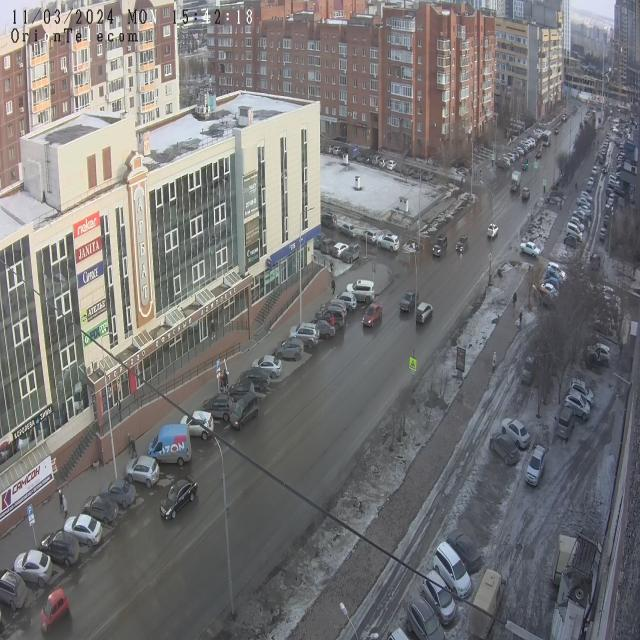car: (468, 570, 508, 640), (433, 538, 472, 604), (147, 421, 192, 471), (405, 589, 448, 640), (160, 468, 198, 525), (420, 569, 456, 629), (40, 526, 80, 572), (12, 546, 54, 589), (448, 526, 481, 576), (39, 586, 70, 638), (64, 512, 104, 551), (83, 490, 119, 531), (124, 452, 160, 493), (230, 387, 260, 435), (0, 566, 28, 614), (178, 408, 214, 444), (100, 478, 137, 511), (202, 390, 232, 430), (488, 428, 518, 467), (501, 413, 530, 452), (238, 364, 270, 398), (525, 440, 547, 489), (252, 352, 283, 385), (288, 319, 318, 353), (226, 376, 254, 412), (319, 296, 347, 332), (570, 373, 595, 411), (564, 387, 591, 422), (274, 338, 304, 368), (314, 306, 344, 336), (304, 316, 336, 342), (345, 279, 375, 306), (556, 403, 576, 442), (585, 342, 612, 369), (362, 302, 383, 336), (398, 285, 418, 319), (520, 354, 538, 388), (332, 290, 358, 312), (342, 241, 362, 269), (415, 300, 434, 329), (539, 277, 559, 304), (432, 230, 448, 262), (337, 218, 359, 241), (378, 232, 400, 254), (320, 234, 340, 258), (320, 207, 338, 233), (547, 261, 566, 285), (331, 238, 349, 263), (567, 220, 584, 245), (520, 241, 542, 260), (510, 167, 522, 195), (359, 230, 378, 247), (456, 232, 468, 257), (486, 221, 499, 243), (518, 185, 532, 203), (564, 234, 577, 250)
